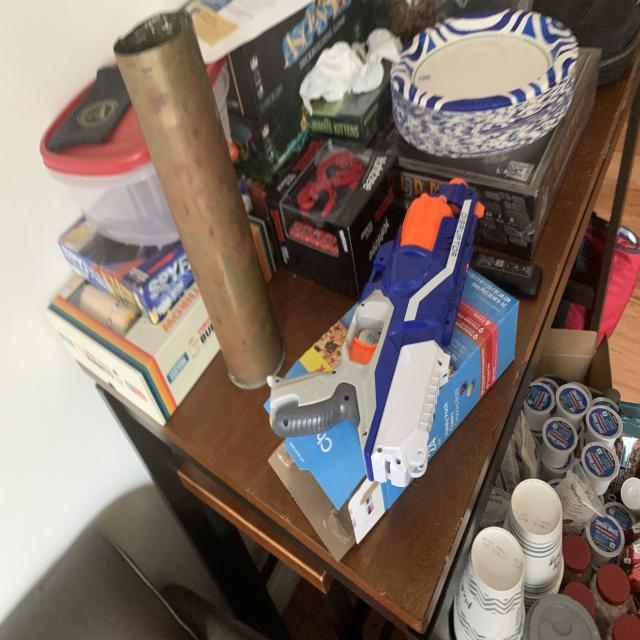nerf-maverik: (260, 172, 494, 496)
